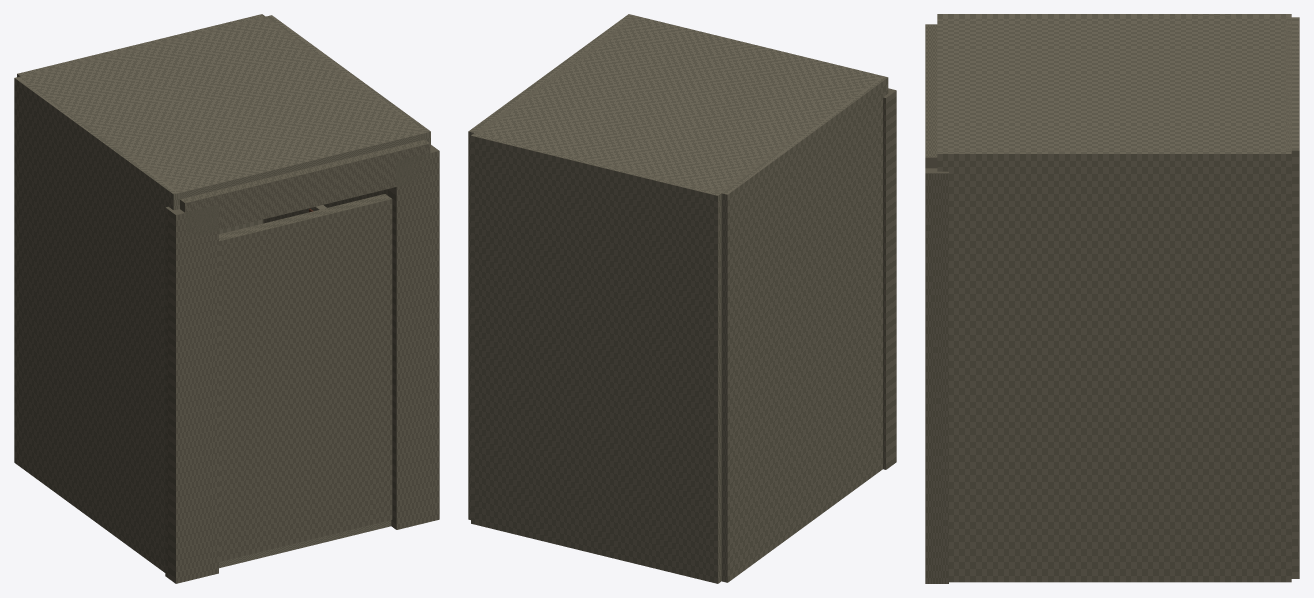
Rendered from elevator_car.glb.
3 renders of one model, left to right at view 1: azimuth 30°, elevation 25°; view 2: azimuth 150°, elevation 25°; view 3: azimuth 270°, elevation 25°, orthographic. The views are drawn at different scales.
Visible parts, largest first — view 1: elevator_car; view 2: elevator_car; view 3: elevator_car.
Part boxes in pixels (bbox=[...]): elevator_car: bbox=[14, 14, 439, 583]; elevator_car: bbox=[468, 14, 896, 583]; elevator_car: bbox=[925, 14, 1299, 583].
Bounding box in the file's own units: 1.72 × 2.4 × 1.9.
1 material, 1 textured.
